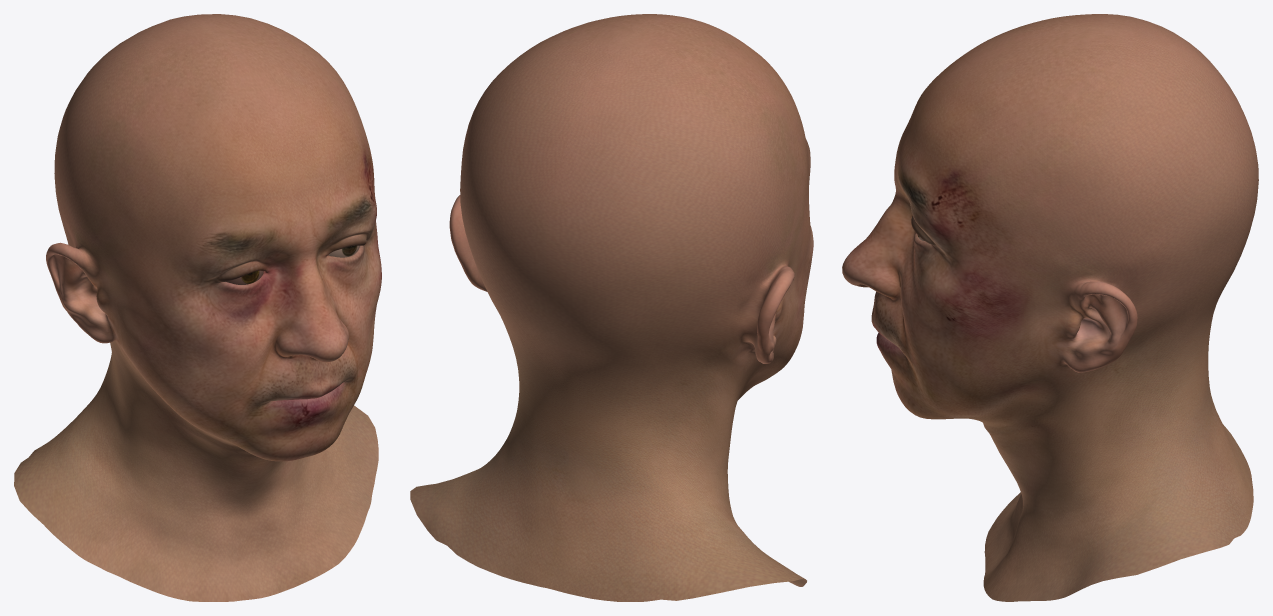
3 renders of one model, left to right at view 1: azimuth 30°, elevation 25°; view 2: azimuth 150°, elevation 25°; view 3: azimuth 270°, elevation 25°, orthographic. The views are drawn at different scales.
Visible parts, largest first — view 1: Registered head; view 2: Registered head; view 3: Registered head.
Part boxes in pixels (left/top/right/bottom): Registered head: left=14, top=14, right=381, bottom=601; Registered head: left=410, top=14, right=813, bottom=601; Registered head: left=842, top=14, right=1258, bottom=601.
Size of the model in its own units: 1.32 by 1.91 by 1.33.
Materials: 3 (3 with a texture image).
